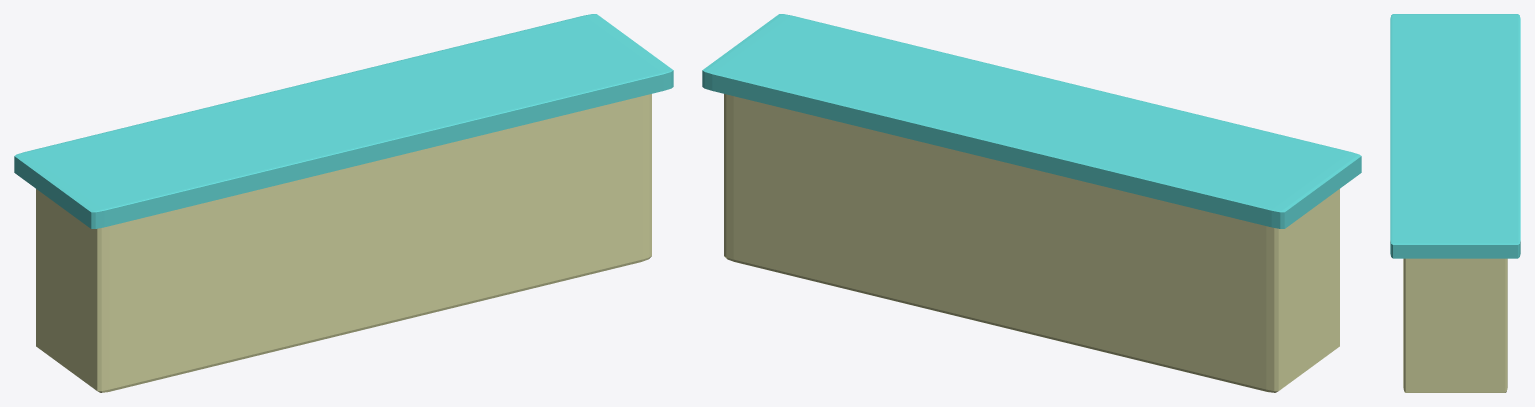
File: new_counter_long.fbx
3 renders of one model, left to right at view 1: azimuth 30°, elevation 25°; view 2: azimuth 150°, elevation 25°; view 3: azimuth 270°, elevation 25°, orthographic. The views are drawn at different scales.
Parts seen in each view (by area): view 1: counter, counter.top; view 2: counter, counter.top; view 3: counter.top, counter.
Part boxes in pixels (x1,y1,x2,y2): counter: [36, 94, 651, 392]; counter.top: [14, 14, 673, 228]; counter: [724, 94, 1339, 392]; counter.top: [702, 14, 1361, 228]; counter.top: [1390, 14, 1520, 258]; counter: [1403, 258, 1507, 392].
Bounding box in the file's own units: 105 × 33.04 × 25.
